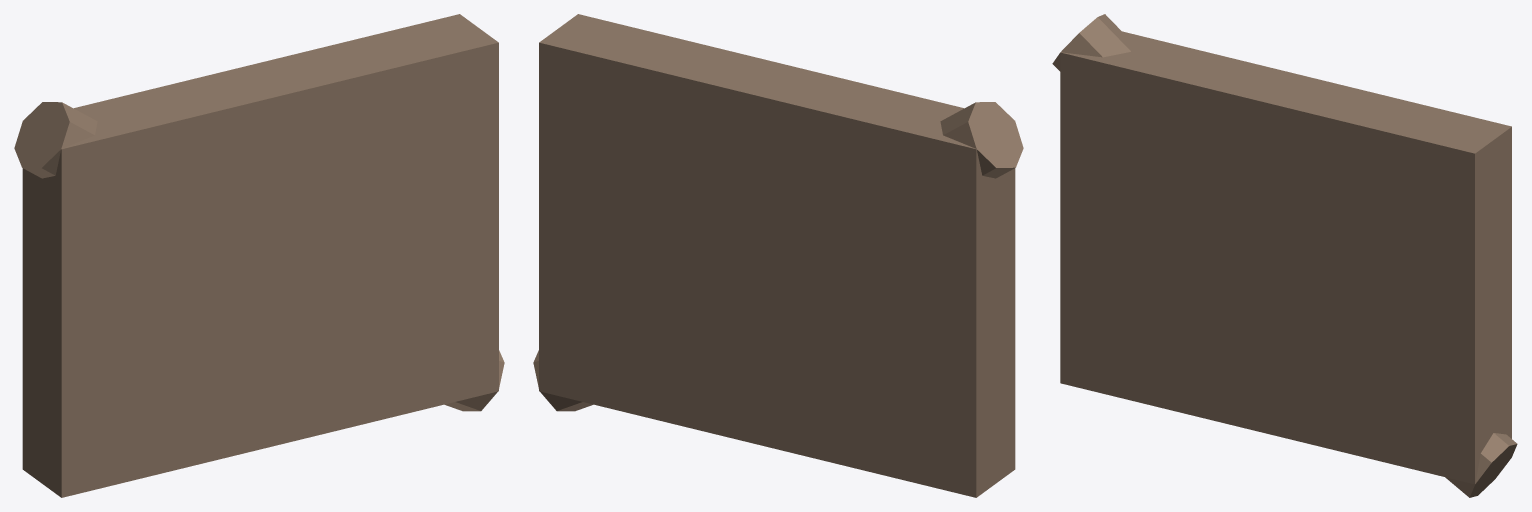
Rendered from arch_carved_beam_end.glb.
The picture shows the model from 3 angles, left to right: view 1: azimuth 30°, elevation 25°; view 2: azimuth 150°, elevation 25°; view 3: azimuth 330°, elevation 25°; orthographic projection. The views are drawn at different scales.
Visible parts, largest first — view 1: arch_carved_beam_end/corbel_back_plate_00005, arch_carved_beam_end/corbel_cloud_body_00000, arch_carved_beam_end/corbel_cloud_body_00003; view 2: arch_carved_beam_end/corbel_back_plate_00005, arch_carved_beam_end/corbel_cloud_body_00000, arch_carved_beam_end/corbel_cloud_body_00003; view 3: arch_carved_beam_end/corbel_back_plate_00005, arch_carved_beam_end/corbel_cloud_body_00000, arch_carved_beam_end/corbel_cloud_body_00003.
Part boxes in pixels (box(x1,y1,x2,y2)): arch_carved_beam_end/corbel_back_plate_00005: box(22, 14, 498, 497); arch_carved_beam_end/corbel_cloud_body_00000: box(14, 102, 97, 178); arch_carved_beam_end/corbel_cloud_body_00003: box(444, 350, 504, 411); arch_carved_beam_end/corbel_back_plate_00005: box(539, 14, 1015, 497); arch_carved_beam_end/corbel_cloud_body_00000: box(940, 102, 1023, 178); arch_carved_beam_end/corbel_cloud_body_00003: box(533, 350, 593, 411); arch_carved_beam_end/corbel_back_plate_00005: box(1060, 31, 1511, 484); arch_carved_beam_end/corbel_cloud_body_00000: box(1052, 14, 1131, 71); arch_carved_beam_end/corbel_cloud_body_00003: box(1445, 433, 1517, 497).
Bounding box in the file's own units: 0.4551 × 0.3734 × 0.065.
